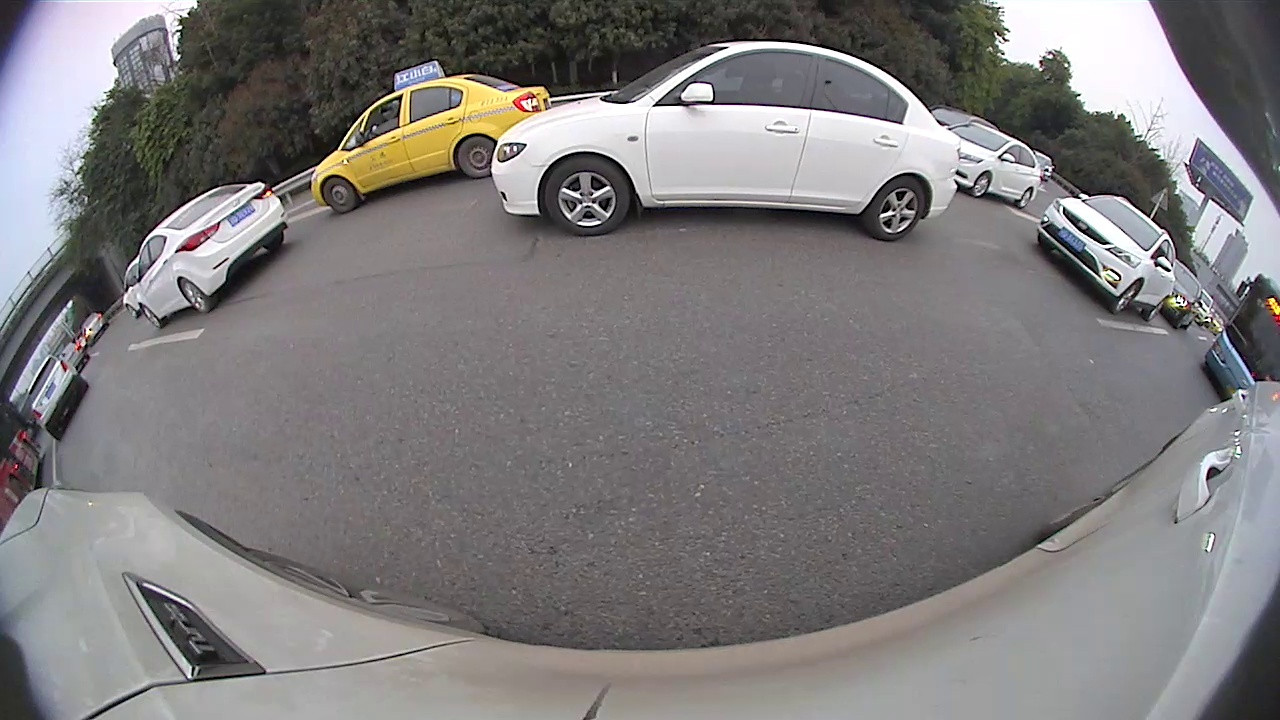bus: (1202, 269, 1278, 398)
car: (486, 38, 966, 246), (308, 59, 554, 215), (133, 179, 290, 330), (1032, 191, 1180, 324), (944, 116, 1046, 212), (24, 349, 92, 444)
front: (544, 152, 633, 237), (320, 174, 361, 214), (1110, 277, 1140, 317), (140, 302, 166, 330), (968, 171, 992, 201)
rear: (864, 176, 928, 245), (454, 134, 498, 181), (177, 275, 214, 316), (1143, 295, 1169, 324), (1015, 187, 1034, 211)
